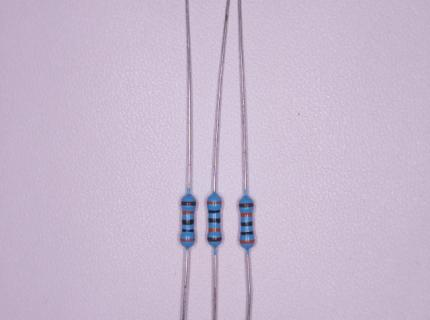Black band: (182, 219, 194, 226), (208, 217, 220, 223), (240, 221, 252, 227), (240, 231, 253, 236), (181, 229, 194, 233), (208, 210, 220, 214)
Brown band: (181, 201, 196, 206), (239, 203, 254, 208), (208, 237, 223, 242)
Orange band: (240, 212, 253, 217), (208, 227, 221, 232), (181, 210, 194, 215), (180, 238, 195, 242), (239, 240, 254, 244), (207, 201, 222, 205)
